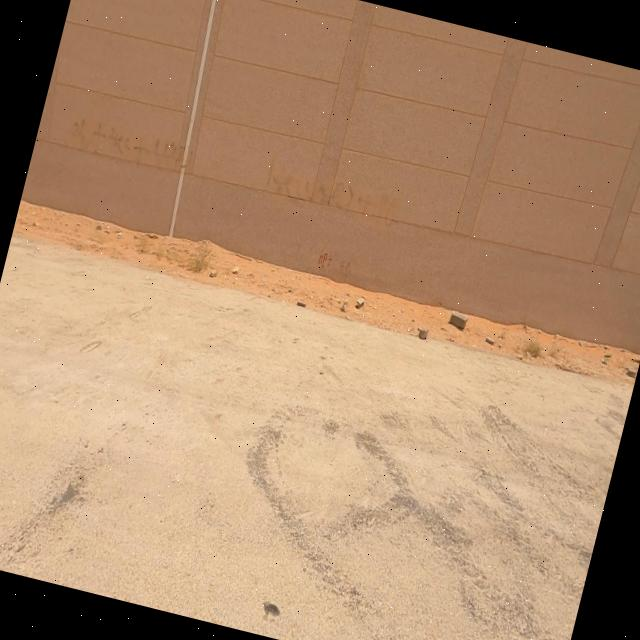Graffiti: (260, 155, 403, 229), (68, 117, 195, 175), (316, 251, 334, 272)
